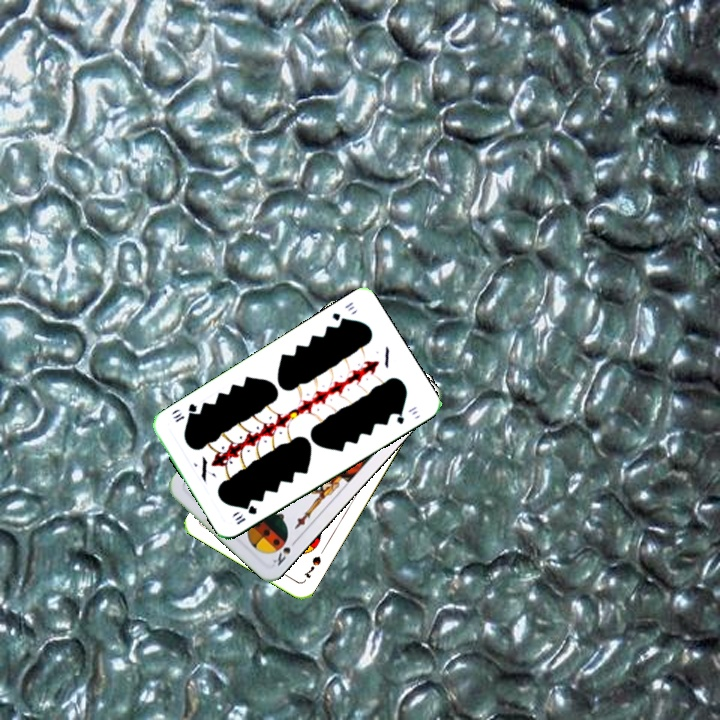G10: (328, 297, 357, 326), (231, 501, 259, 527)
S7: (300, 552, 324, 581)
SK: (269, 535, 300, 569)
